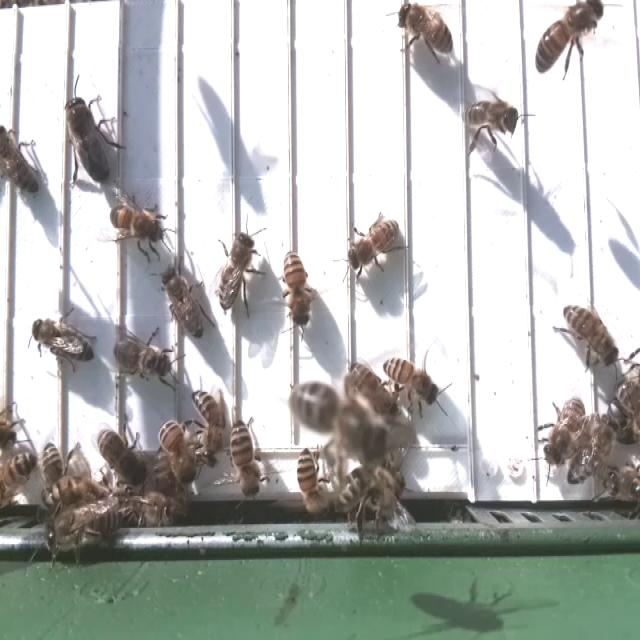Drone: (60, 90, 113, 187)
Worker: (26, 311, 97, 373), (560, 300, 623, 368), (159, 261, 208, 342), (567, 414, 620, 488), (540, 392, 588, 473), (214, 229, 256, 315), (342, 218, 405, 275), (380, 351, 445, 406), (227, 415, 268, 502), (112, 330, 179, 382), (155, 415, 200, 488), (279, 245, 315, 332), (462, 94, 521, 145), (106, 199, 168, 246), (192, 387, 226, 467), (295, 446, 330, 520)
